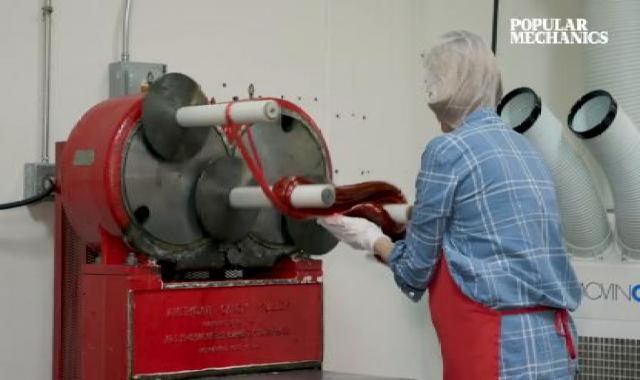hairnet: (422, 29, 506, 127)
